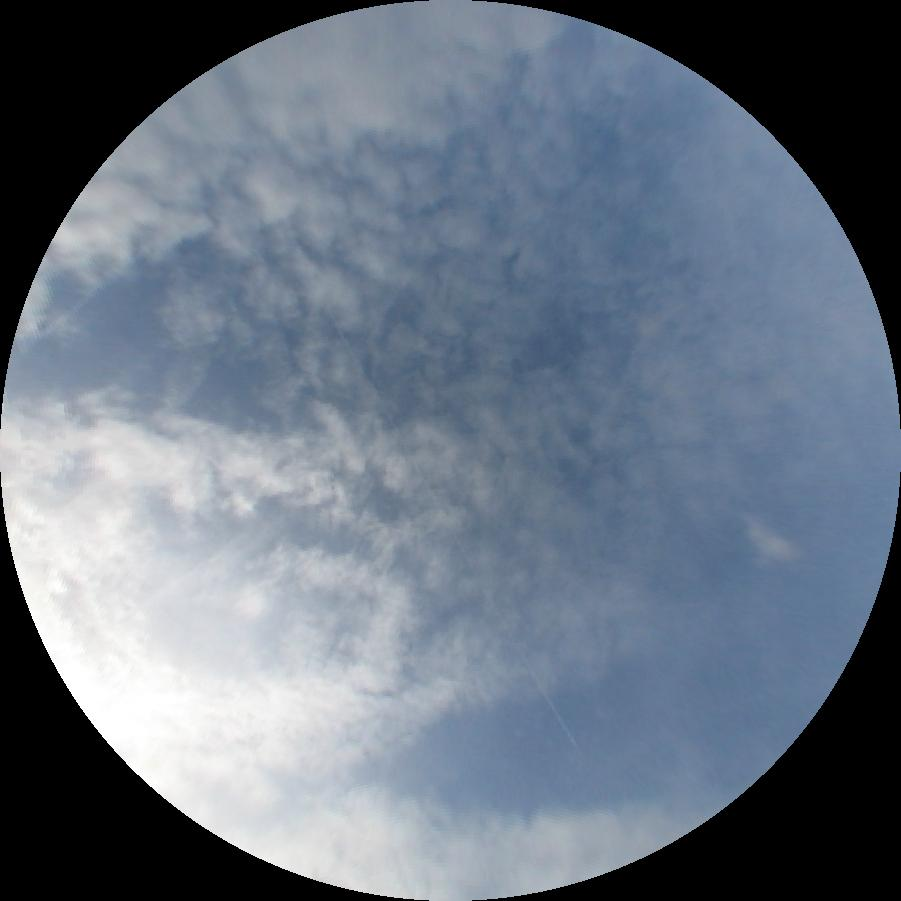contrail young: (328, 310, 575, 744)
